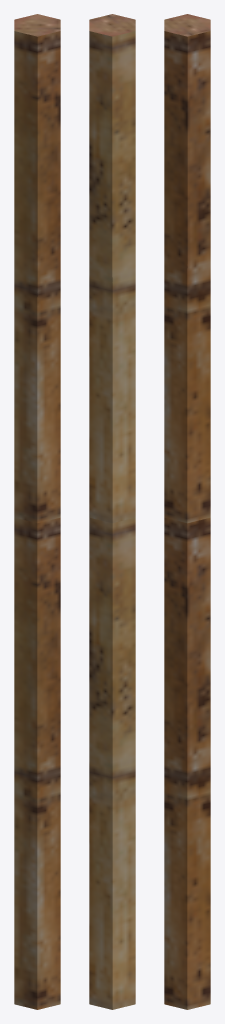
The model's file is Pipe Long.fbx.
3 renders of one model, left to right at view 1: azimuth 30°, elevation 25°; view 2: azimuth 150°, elevation 25°; view 3: azimuth 330°, elevation 25°, orthographic.
Visible parts, largest first — view 1: Cylinder005; view 2: Cylinder005; view 3: Cylinder005.
Boxes of the visible parts, x1,y1,x2,y2 form: Cylinder005: (14, 14, 60, 1009); Cylinder005: (89, 14, 135, 1009); Cylinder005: (164, 14, 210, 1009).
Size of the model in its own units: 20 by 400 by 17.32.
1 material, 1 textured.
